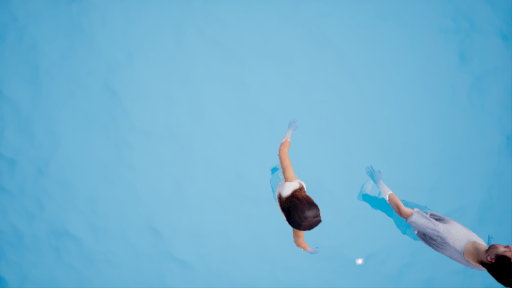person: (351, 169, 510, 288), (265, 125, 330, 255)
